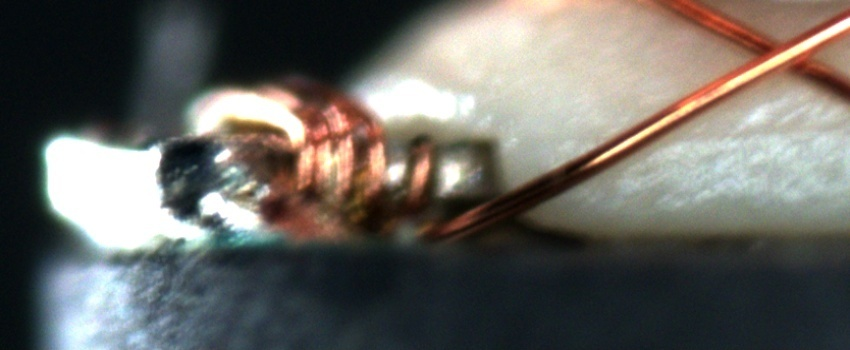CL: (728, 23, 831, 87)
DL: (654, 102, 849, 166)
TE: (189, 66, 448, 241)
